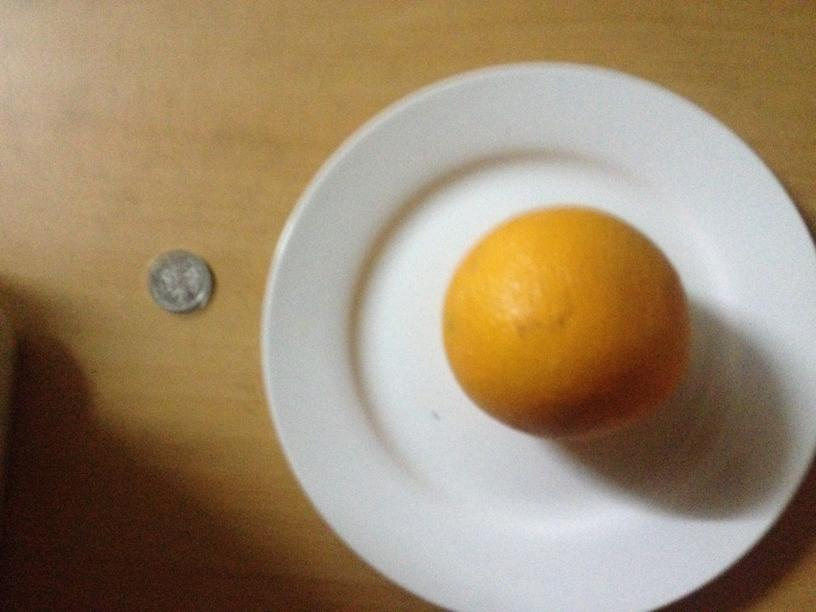coin: (148, 249, 212, 312)
orange: (446, 209, 691, 440)
